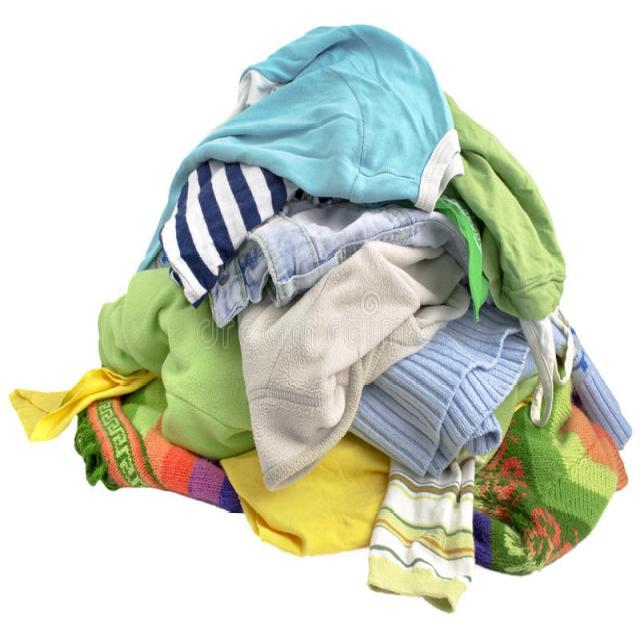clothes: (178, 35, 628, 606)
